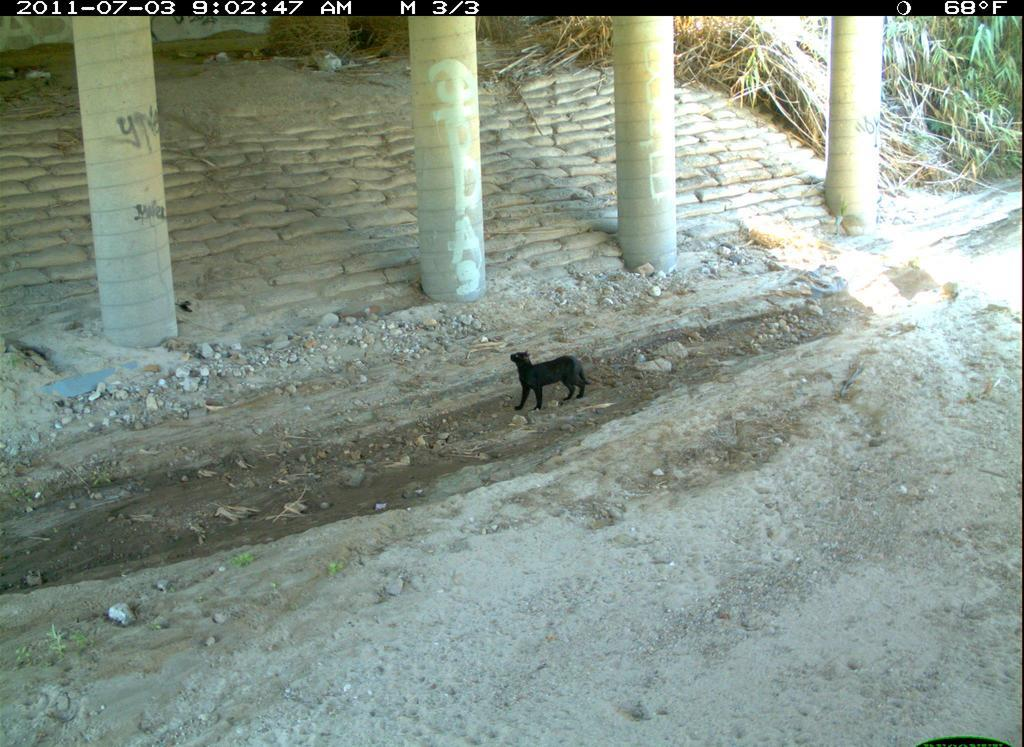cat: (1014, 694, 1024, 747)
